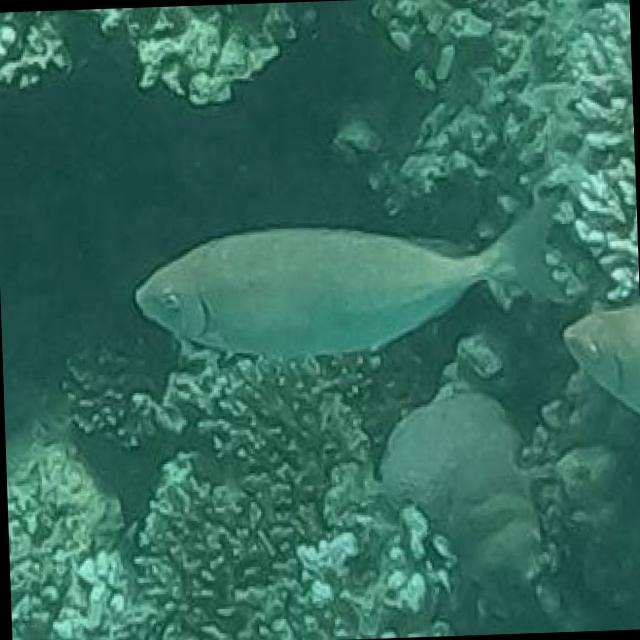Sokar Baligi: (117, 169, 578, 373)
